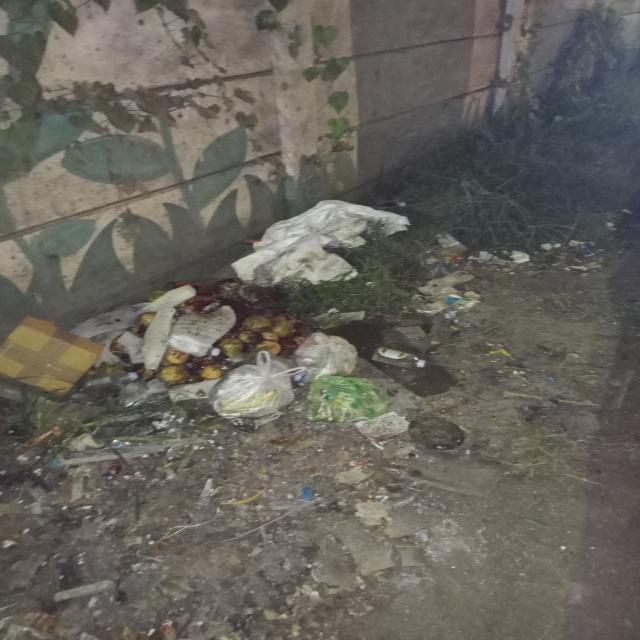garbage: (21, 200, 488, 436)
